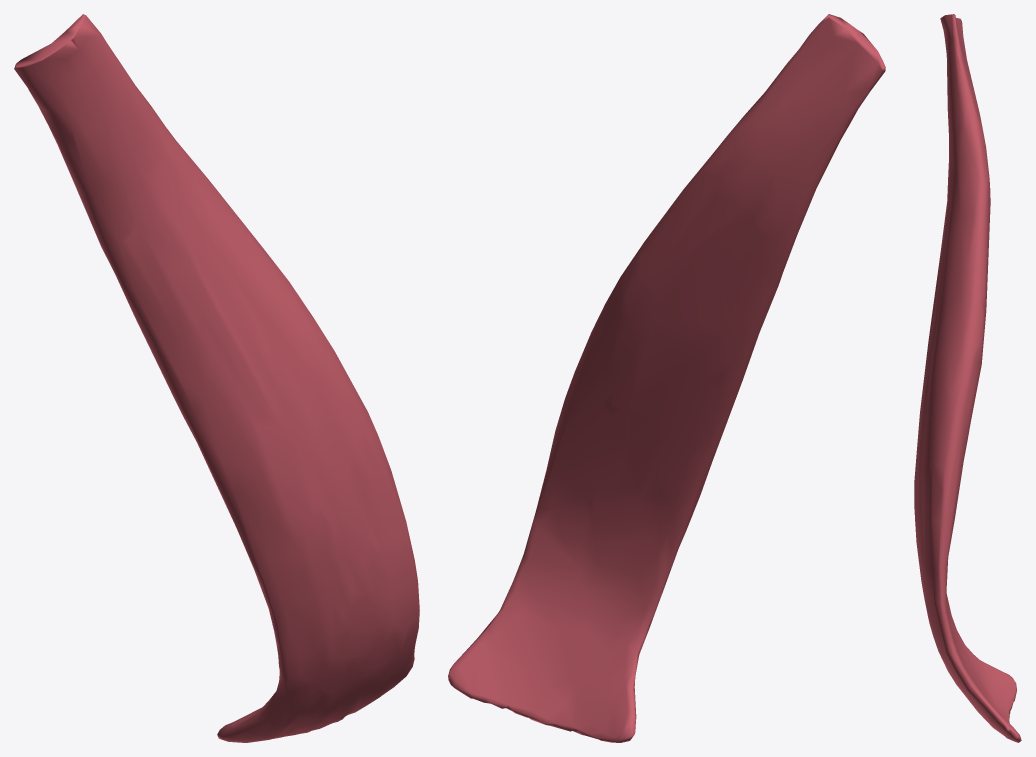
The picture shows the model from 3 angles, left to right: view 1: azimuth 30°, elevation 25°; view 2: azimuth 150°, elevation 25°; view 3: azimuth 270°, elevation 25°; orthographic projection. The views are drawn at different scales.
Parts seen in each view (by area): view 1: 左侧上直肌; view 2: 左侧上直肌; view 3: 左侧上直肌.
Boxes of the visible parts, x1,y1,x2,y2 form: 左侧上直肌: [14, 14, 419, 742]; 左侧上直肌: [448, 14, 885, 742]; 左侧上直肌: [914, 14, 1021, 742].
Size of the model in its own units: 0.0337 by 0.0598 by 0.00951.
